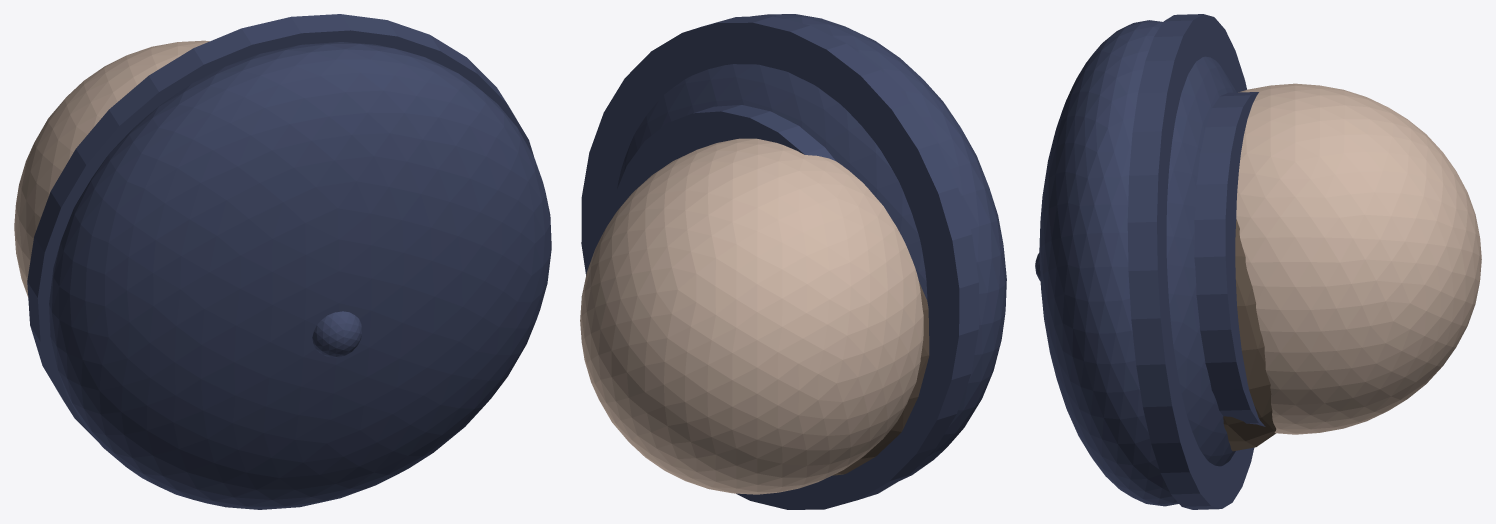
Rendered from teibi_head.glb.
3 views of the same model, side by side, from view 1: azimuth 30°, elevation 25°; view 2: azimuth 150°, elevation 25°; view 3: azimuth 270°, elevation 25° (orthographic). The views are drawn at different scales.
Visible parts, largest first — view 1: geometry_0; view 2: geometry_0; view 3: geometry_0.
Part boxes in pixels (<box>): geometry_0: <box>14,14,551,509</box>; geometry_0: <box>580,14,1006,509</box>; geometry_0: <box>1035,14,1481,509</box>.
Bounding box in the file's own units: 0.3285 × 0.33 × 0.2974.
